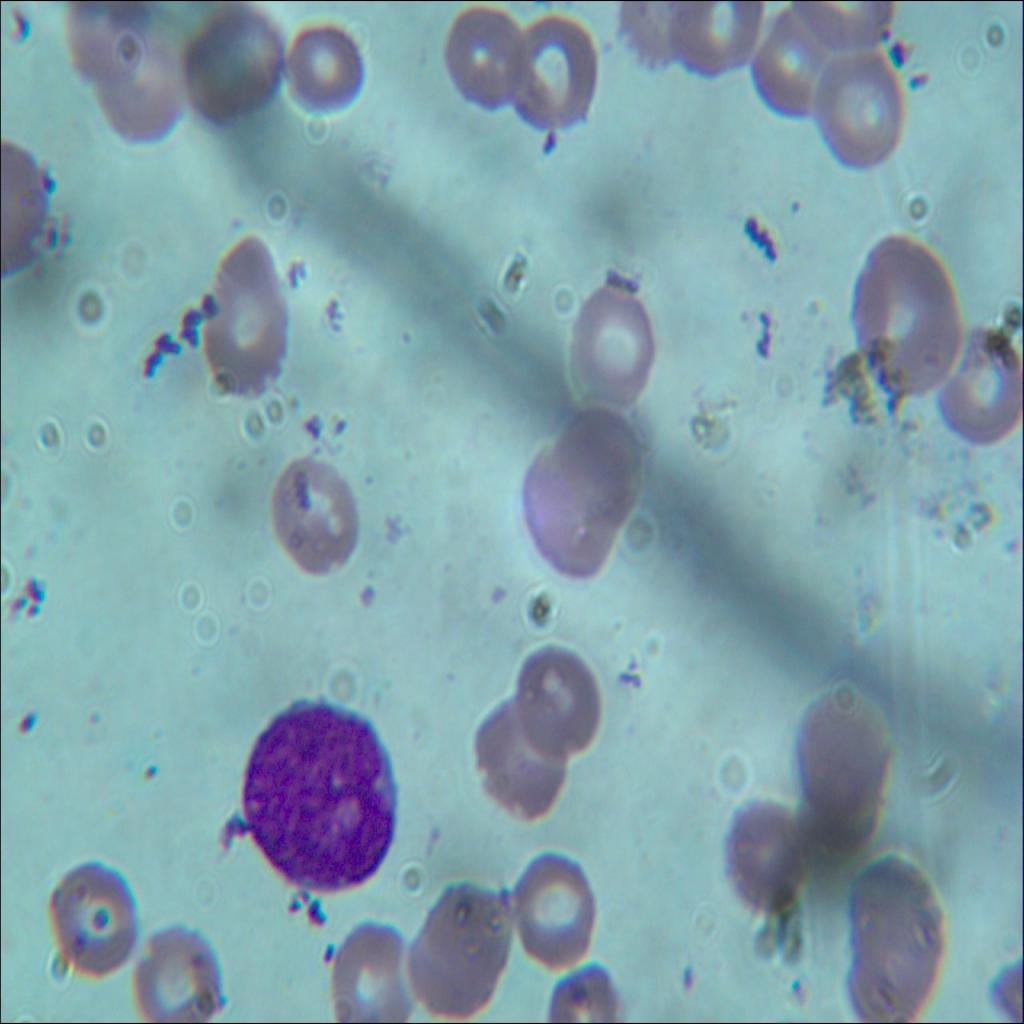Eritrosit: (850, 227, 964, 399), (846, 842, 942, 1023), (201, 235, 293, 402), (519, 449, 621, 591), (409, 879, 510, 1015), (798, 692, 895, 822), (41, 854, 139, 982), (568, 284, 658, 418), (263, 456, 361, 578), (179, 8, 284, 120), (555, 399, 644, 528), (509, 844, 595, 977), (814, 49, 906, 172), (96, 14, 182, 145), (510, 15, 596, 141), (724, 787, 806, 911), (444, 1, 528, 122), (474, 704, 560, 822), (938, 325, 1021, 446), (518, 642, 599, 761), (131, 925, 223, 1023), (326, 918, 408, 1023), (276, 23, 370, 114), (663, 1, 763, 85), (751, 8, 822, 122)
Limfoblast: (239, 700, 395, 890)
Platelet: (11, 577, 44, 618), (31, 162, 63, 204), (14, 701, 40, 752), (350, 577, 384, 612), (476, 572, 508, 609), (298, 889, 326, 928), (319, 938, 346, 977), (535, 125, 559, 164), (784, 194, 808, 232), (299, 409, 322, 448), (886, 29, 910, 64), (136, 752, 158, 788), (906, 61, 929, 94), (678, 956, 700, 989), (789, 972, 809, 1005), (734, 304, 754, 334), (329, 414, 349, 440), (398, 321, 412, 351)
